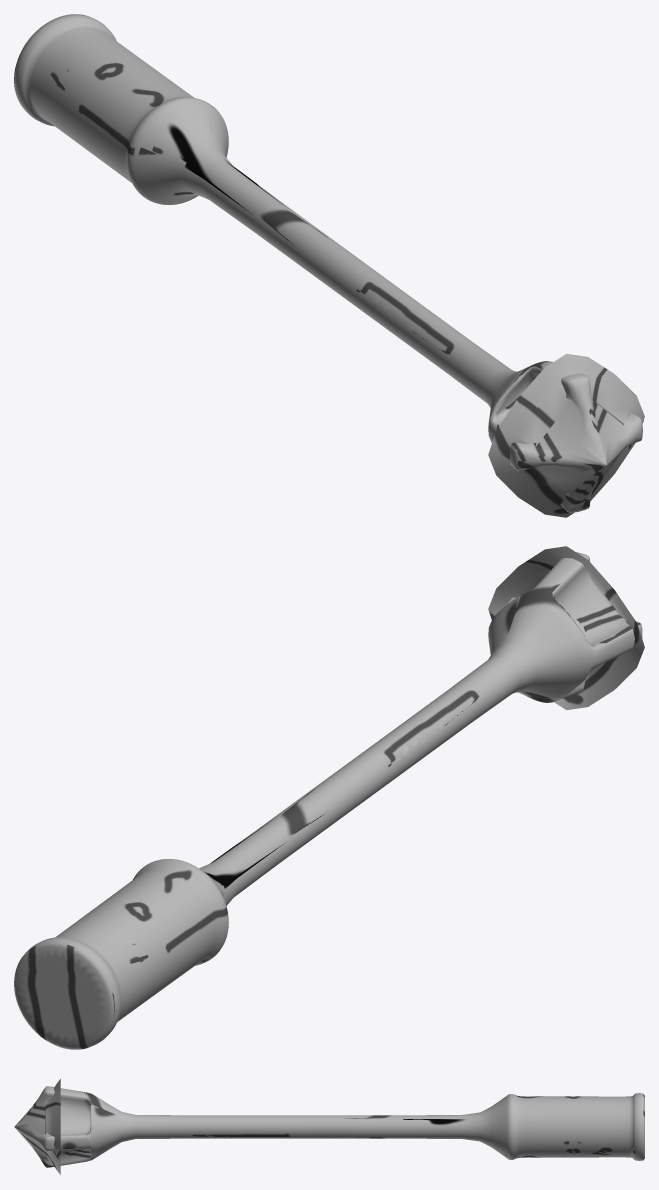
The model's file is lamp.obj.
The picture shows the model from 3 angles, top to bottom: view 1: azimuth 30°, elevation 25°; view 2: azimuth 150°, elevation 25°; view 3: azimuth 270°, elevation 25°; orthographic projection. The views are drawn at different scales.
Visible parts, largest first — view 1: Cylinder; view 2: Cylinder; view 3: Cylinder.
Boxes of the visible parts, x1,y1,x2,y2 form: Cylinder: (14,14,644,517); Cylinder: (14,546,644,1049); Cylinder: (14,1079,644,1174).
Size of the model in its own units: 2.07 by 2.07 by 12.42.
